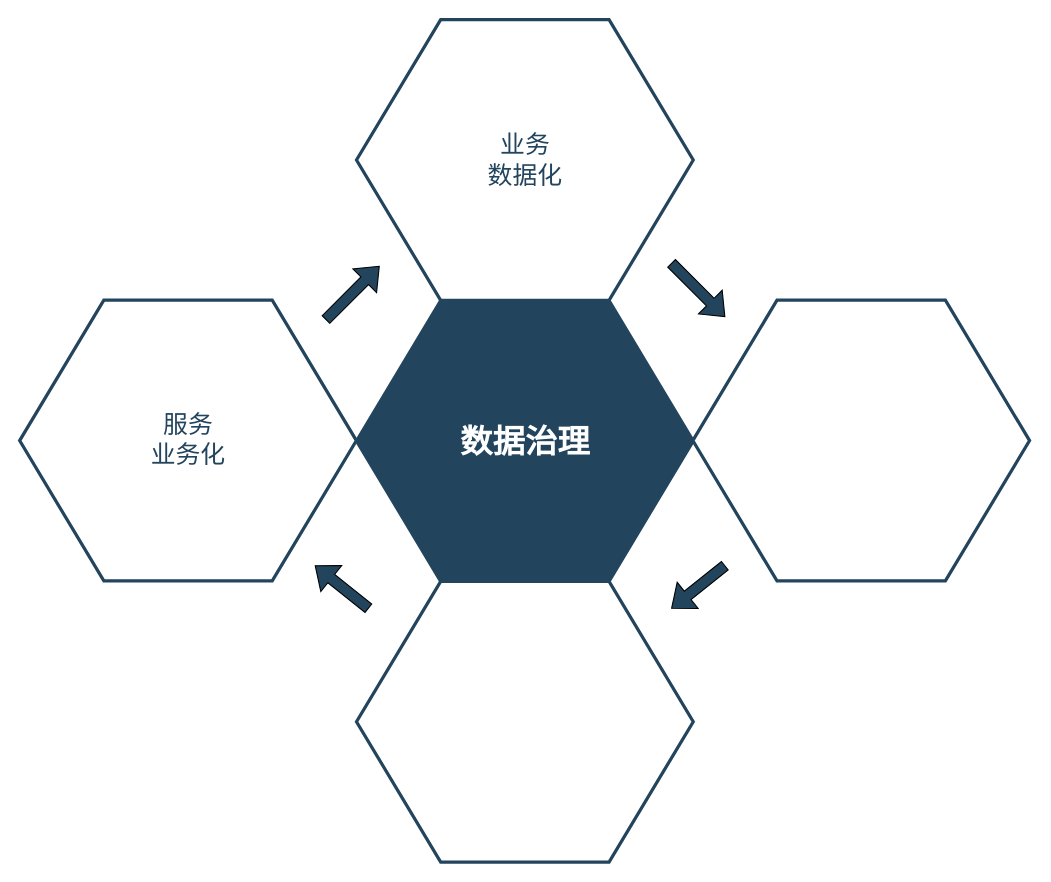
Some shapes in this 1051 by 882 pixel diagram are drawn without their labels. The centre of each missing label's shape, as x and y in pixels:
数据 资产化: pixel 861 440
资产 服务化: pixel 524 721
